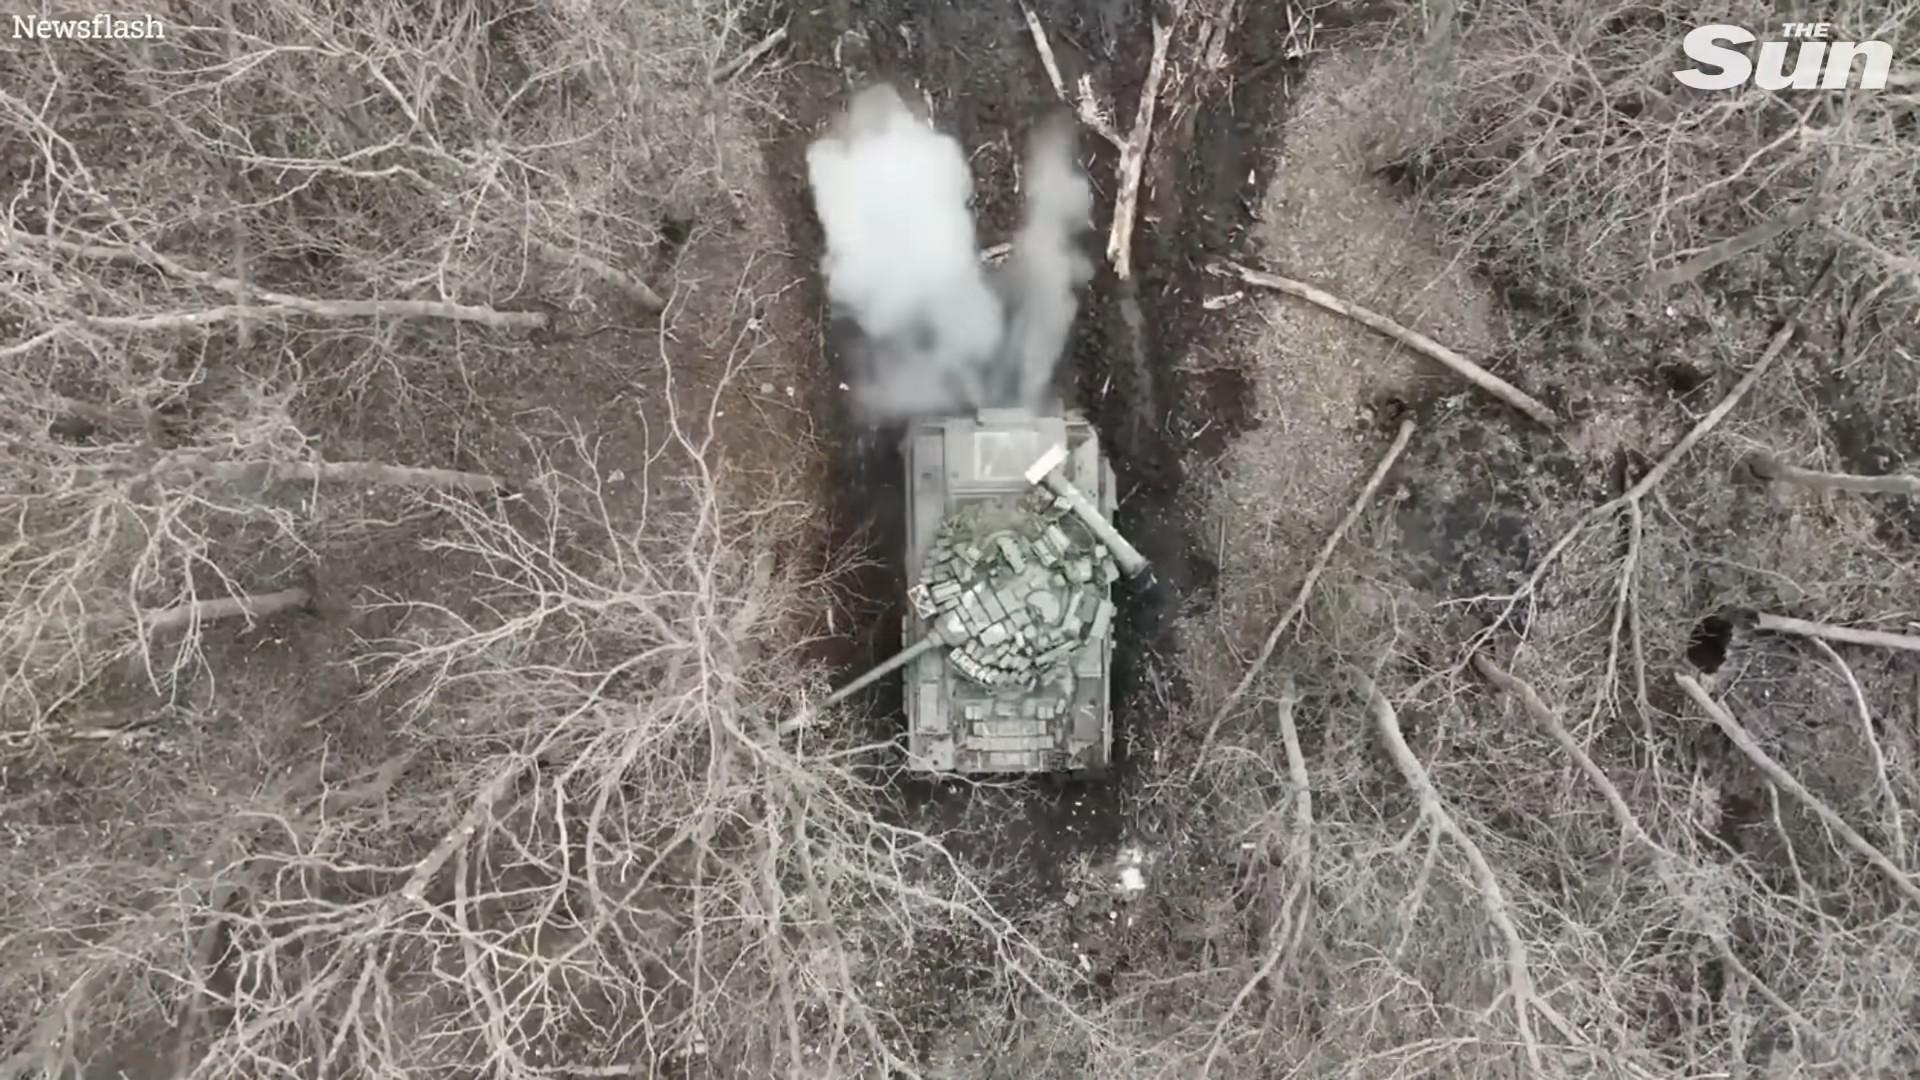tank: (778, 407, 1153, 773)
